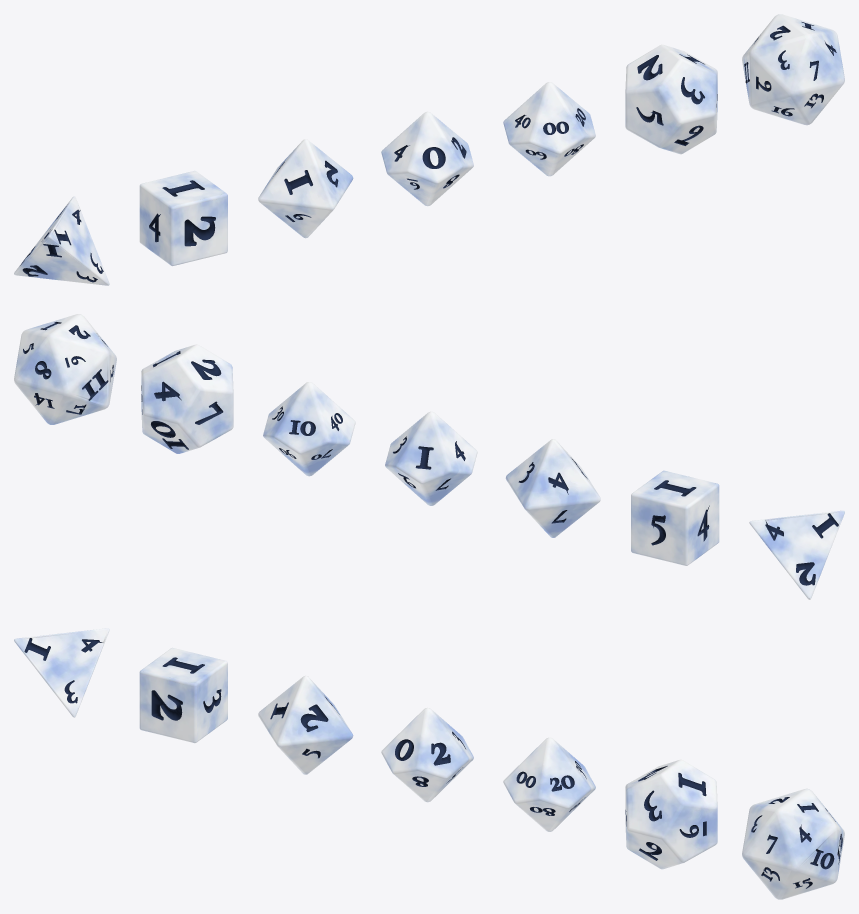
The model's file is moonstone.glb.
The picture shows the model from 3 angles, top to bottom: view 1: azimuth 30°, elevation 25°; view 2: azimuth 150°, elevation 25°; view 3: azimuth 330°, elevation 25°; orthographic projection.
Visible parts, largest first — view 1: d20, d12, d6, d100, d10, d8, d4; view 2: d20, d12, d6, d100, d10, d8, d4; view 3: d20, d12, d6, d8, d100, d10, d4.
Part boxes in pixels (<box>): d20: <box>742,14,844,125</box>; d12: <box>625,44,717,154</box>; d6: <box>139,170,227,266</box>; d100: <box>503,82,595,176</box>; d10: <box>381,111,473,206</box>; d8: <box>258,139,353,238</box>; d4: <box>14,196,109,285</box>; d20: <box>14,314,116,424</box>; d12: <box>141,344,233,453</box>; d6: <box>631,470,719,565</box>; d100: <box>263,382,355,476</box>; d10: <box>385,411,477,505</box>; d8: <box>505,439,600,537</box>; d4: <box>749,510,844,599</box>; d20: <box>742,788,844,899</box>; d12: <box>625,759,717,869</box>; d6: <box>139,647,227,743</box>; d8: <box>258,675,353,774</box>; d100: <box>503,737,595,831</box>; d10: <box>381,707,473,802</box>; d4: <box>14,628,109,717</box>.
Bounding box in the file's own units: 21.14 × 2.47 × 2.47.
Materials: 14 (7 with a texture image).
